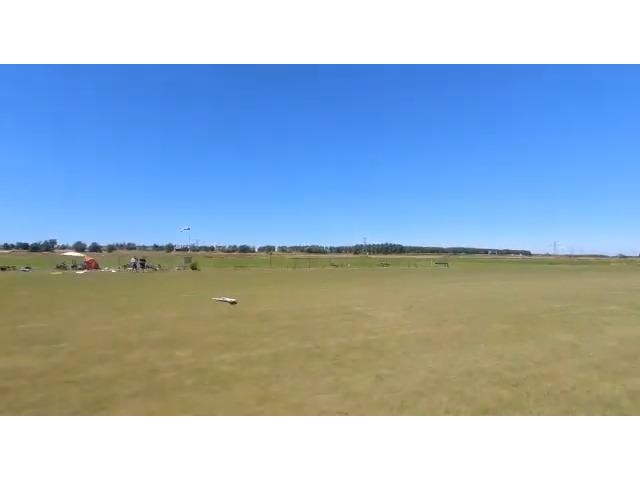Anti-Drone: (200, 290, 260, 316)
